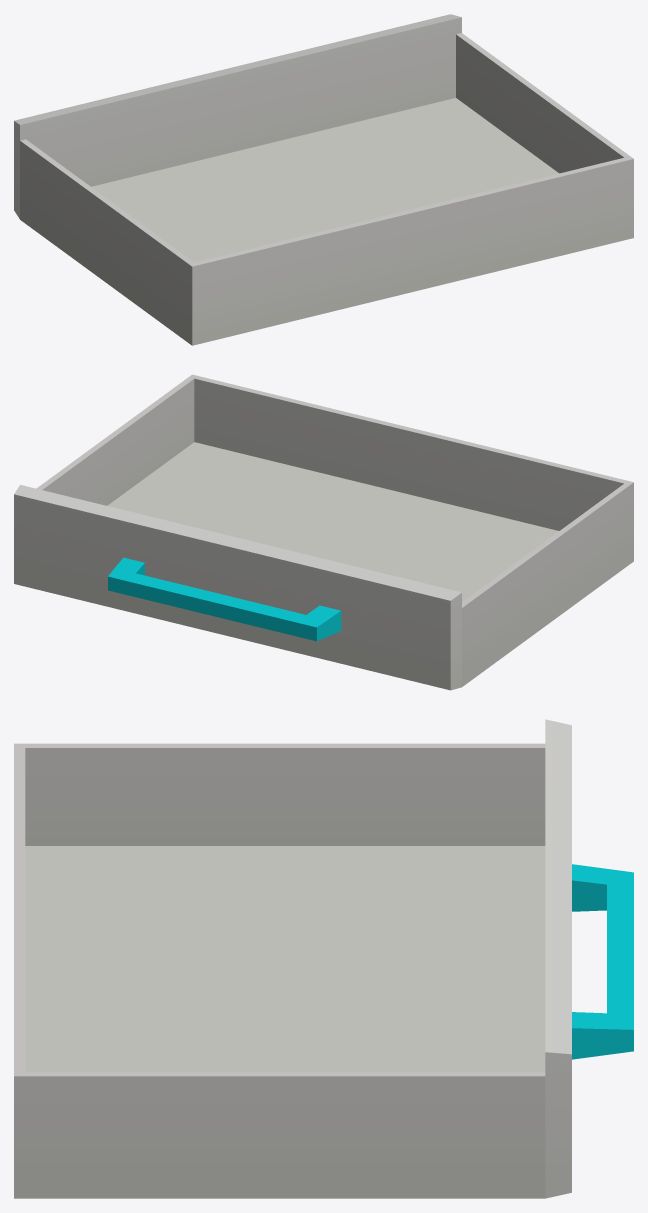
File: Utility_Cart_13_Shelf.fbx
The picture shows the model from 3 angles, top to bottom: view 1: azimuth 30°, elevation 25°; view 2: azimuth 150°, elevation 25°; view 3: azimuth 270°, elevation 25°; orthographic projection. The views are drawn at different scales.
Parts seen in each view (by area): view 1: Color; view 2: Color; view 3: Color.
Part boxes in pixels (bbox=[...]): Color: bbox=[14, 14, 633, 345]; Color: bbox=[14, 374, 633, 690]; Color: bbox=[14, 719, 633, 1198].
Size of the model in its own units: 0.4415 by 0.0906 by 0.3476.
1 material, 1 textured.
